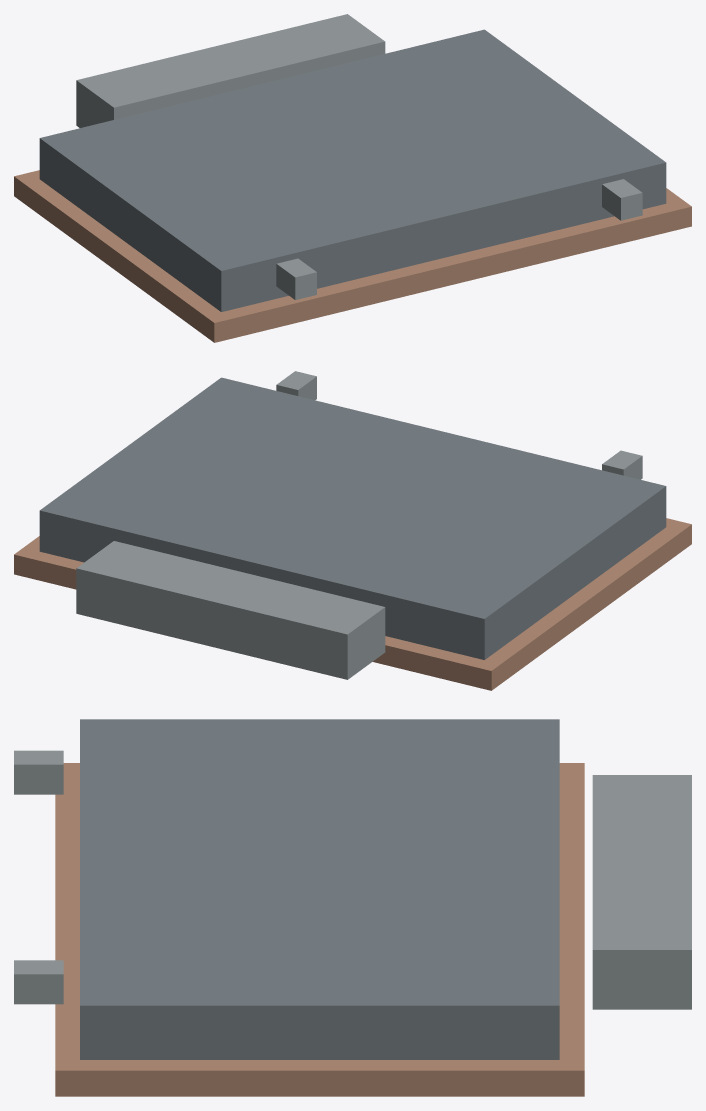
The model's file is 14_microfiche_reader.glb.
3 renders of one model, top to bottom at view 1: azimuth 30°, elevation 25°; view 2: azimuth 150°, elevation 25°; view 3: azimuth 270°, elevation 25°, orthographic. The views are drawn at different scales.
Parts seen in each view (by area): view 1: viewer_housing_0001, control_strip_0010, map_frame_top_0004, map_frame_left_0002, hanging_bracket_0009, hanging_bracket_0008, map_frame_right_0003; view 2: viewer_housing_0001, control_strip_0010, map_frame_left_0002, map_frame_bottom_0005, map_frame_right_0003, hanging_bracket_0008, hanging_bracket_0009; view 3: viewer_housing_0001, control_strip_0010, map_frame_right_0003, map_frame_bottom_0005, map_frame_top_0004, hanging_bracket_0008, hanging_bracket_0009, map_frame_left_0002.
Boxes of the visible parts, left/top/right/bottom form: viewer_housing_0001: left=39, top=29, right=666, bottom=311; control_strip_0010: left=76, top=14, right=385, bottom=127; map_frame_top_0004: left=232, top=206, right=664, bottom=335; map_frame_left_0002: left=14, top=170, right=241, bottom=342; hanging_bracket_0009: left=602, top=179, right=642, bottom=220; hanging_bracket_0008: left=276, top=258, right=316, bottom=299; map_frame_right_0003: left=656, top=188, right=691, bottom=232; viewer_housing_0001: left=39, top=377, right=666, bottom=659; control_strip_0010: left=76, top=541, right=385, bottom=679; map_frame_left_0002: left=464, top=518, right=691, bottom=690; map_frame_bottom_0005: left=41, top=554, right=473, bottom=683; map_frame_right_0003: left=14, top=536, right=49, bottom=580; hanging_bracket_0008: left=602, top=450, right=642, bottom=479; hanging_bracket_0009: left=276, top=371, right=316, bottom=400; viewer_housing_0001: left=80, top=719, right=559, bottom=1059; control_strip_0010: left=592, top=775, right=691, bottom=1009; map_frame_right_0003: left=55, top=1053, right=584, bottom=1096; map_frame_bottom_0005: left=559, top=780, right=584, bottom=1052; map_frame_top_0004: left=55, top=780, right=79, bottom=1052; hanging_bracket_0008: left=14, top=750, right=63, bottom=794; hanging_bracket_0009: left=14, top=960, right=63, bottom=1004; map_frame_left_0002: left=63, top=763, right=584, bottom=780.
Size of the model in its own units: 0.88 by 0.112 by 0.82.
